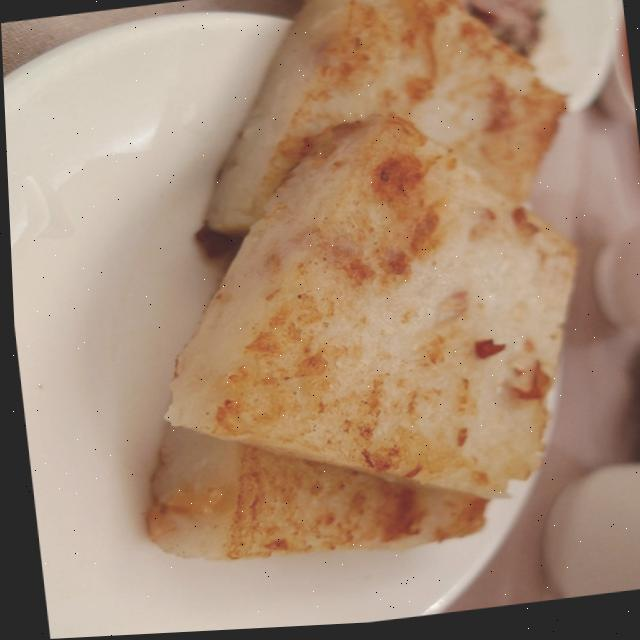蛋糕甜品: (51, 0, 640, 612)
